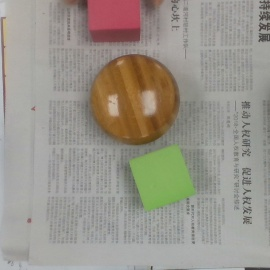chess: (89, 54, 181, 145)
